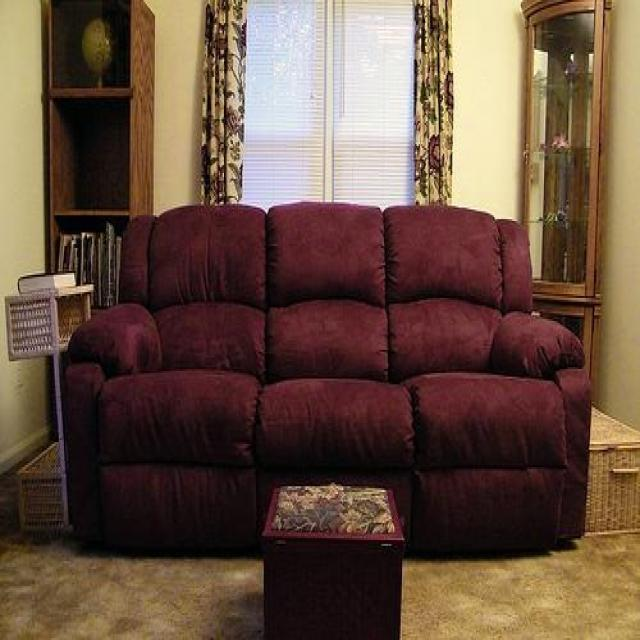sofa: (61, 204, 594, 562)
